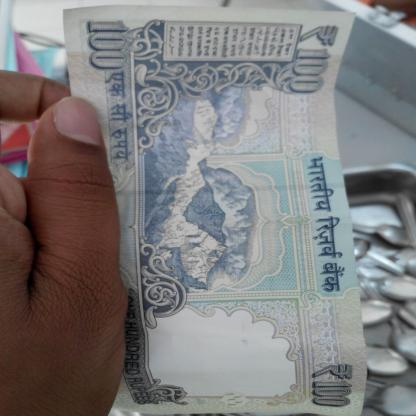Old100Back: (61, 0, 372, 416)
